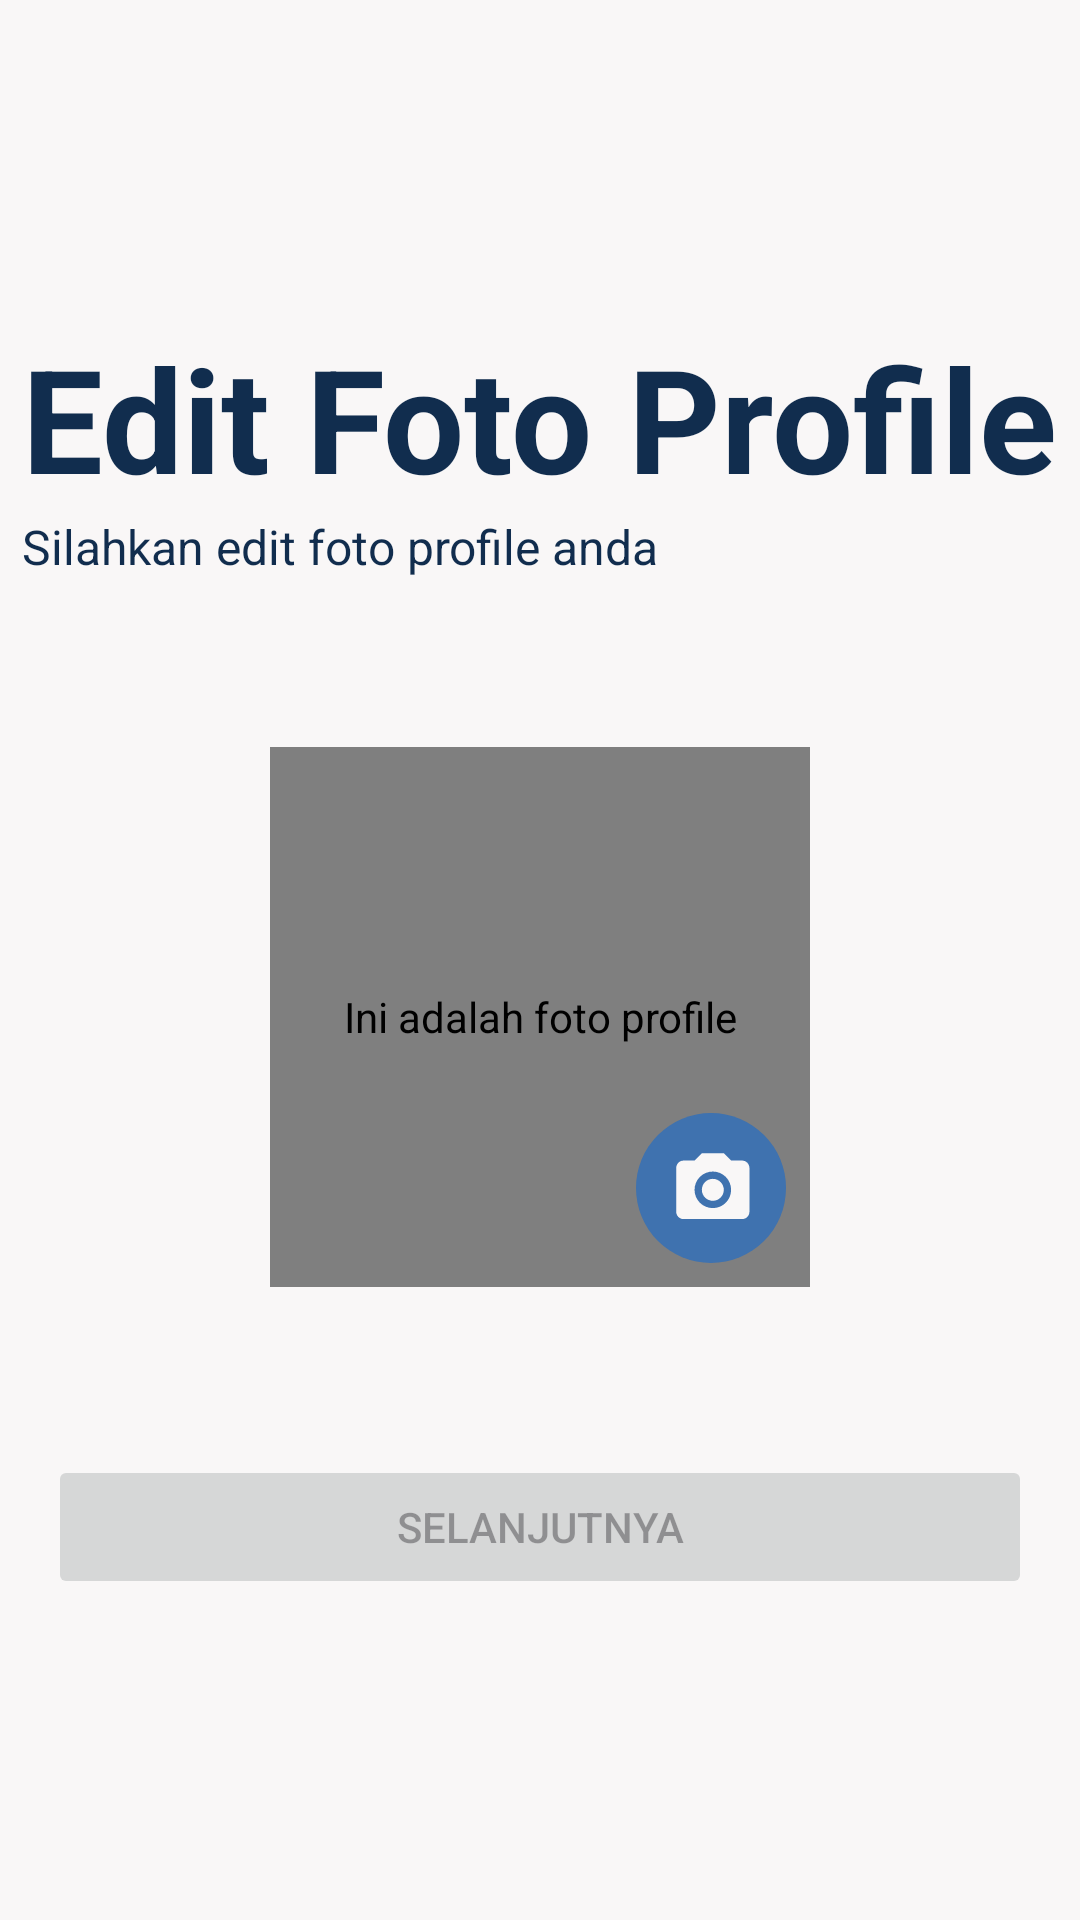

Screen size 1080×1920. Icon name, then its box in pixels as (x1, y1, x2, y2):
Ini adalah icon camera: (636, 1113, 786, 1263)
